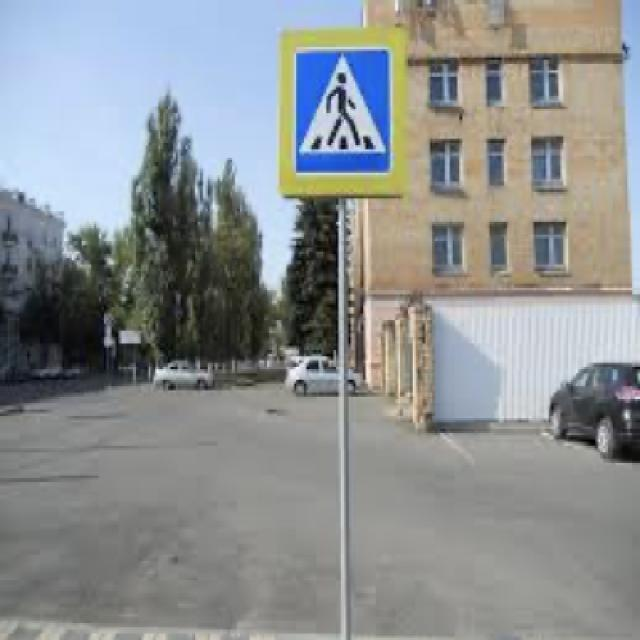crosswalk_sign: (291, 44, 395, 180)
